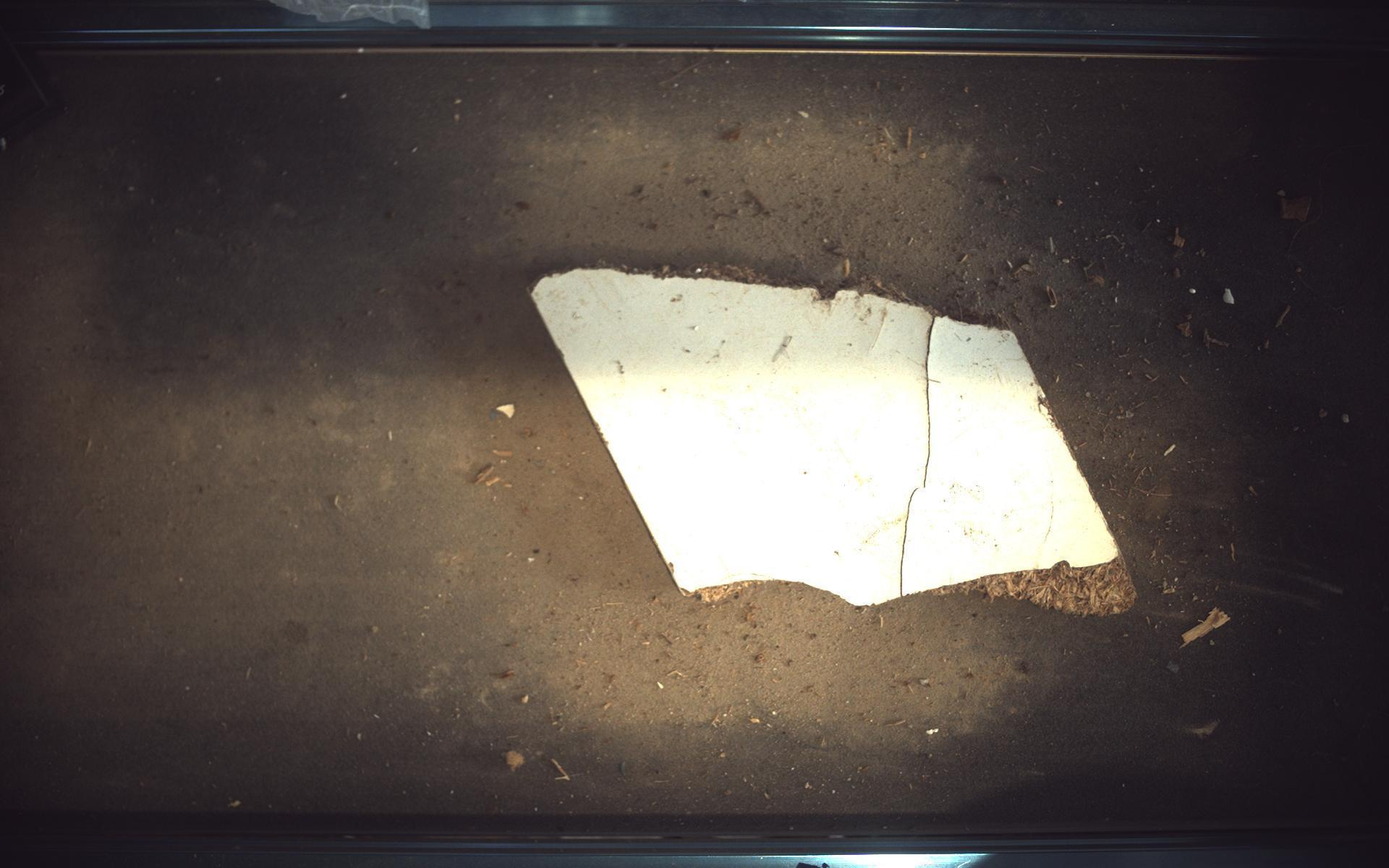wood: (533, 268, 1137, 615)
